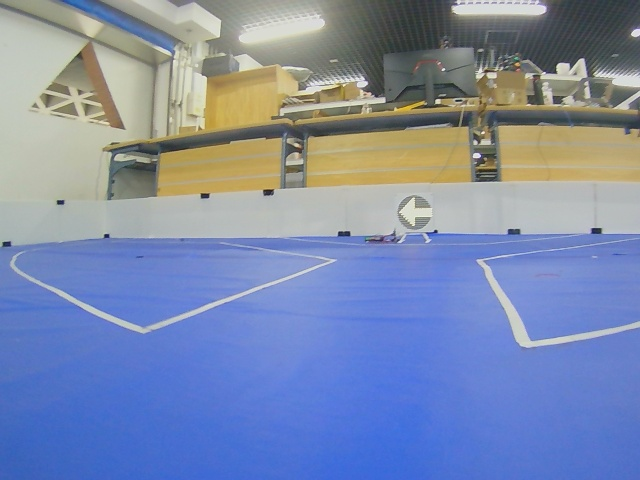left_yellow: (398, 196, 433, 229)
